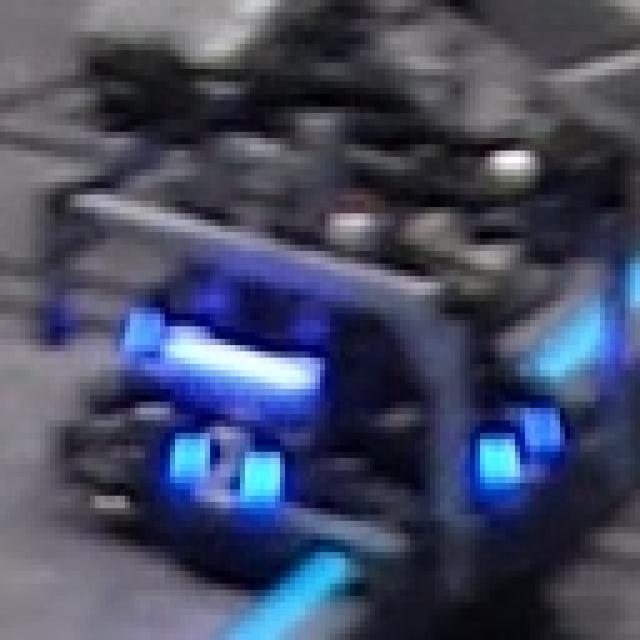B2: (165, 408, 290, 521)
